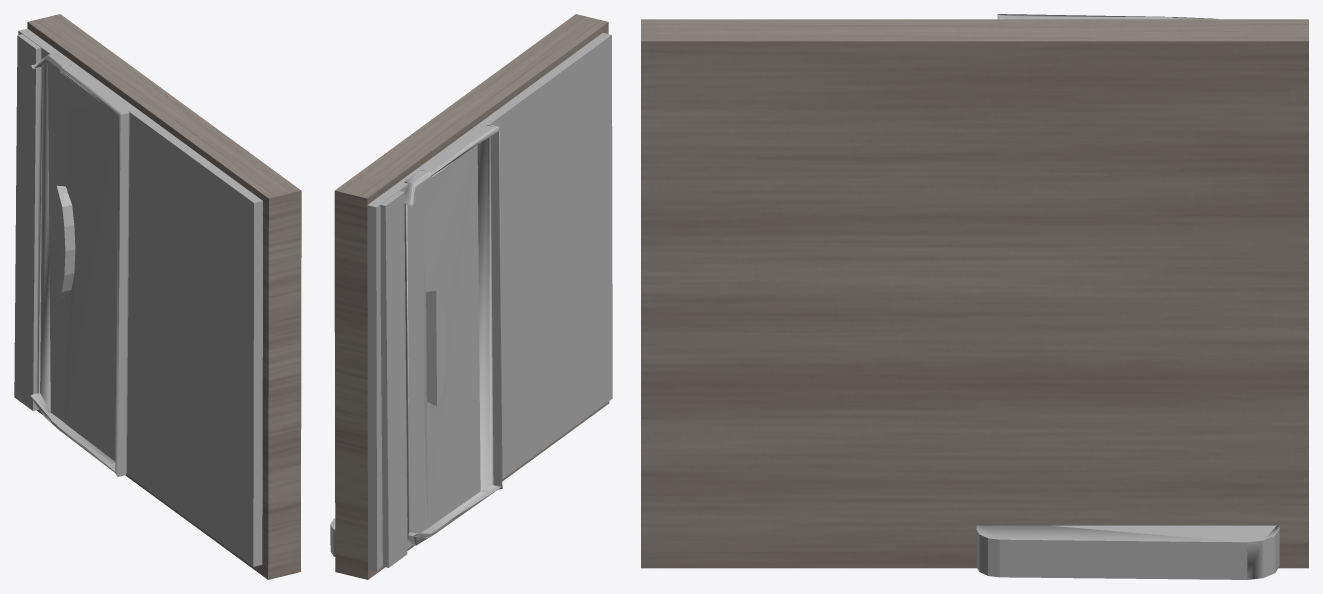
The model's file is bottom_door.glb.
The picture shows the model from 3 angles, left to right: view 1: azimuth 30°, elevation 25°; view 2: azimuth 150°, elevation 25°; view 3: azimuth 270°, elevation 25°; orthographic projection. The views are drawn at different scales.
Parts seen in each view (by area): view 1: frl_apartment_refrigerator_door_02; view 2: frl_apartment_refrigerator_door_02; view 3: frl_apartment_refrigerator_door_02.
Part boxes in pixels (left/top/right/bottom): frl_apartment_refrigerator_door_02: left=14, top=14, right=301, bottom=579; frl_apartment_refrigerator_door_02: left=330, top=14, right=612, bottom=579; frl_apartment_refrigerator_door_02: left=641, top=14, right=1308, bottom=579.
Bounding box in the file's own units: 0.1531 × 0.6952 × 0.7979.
Materials: 1 (1 with a texture image).
